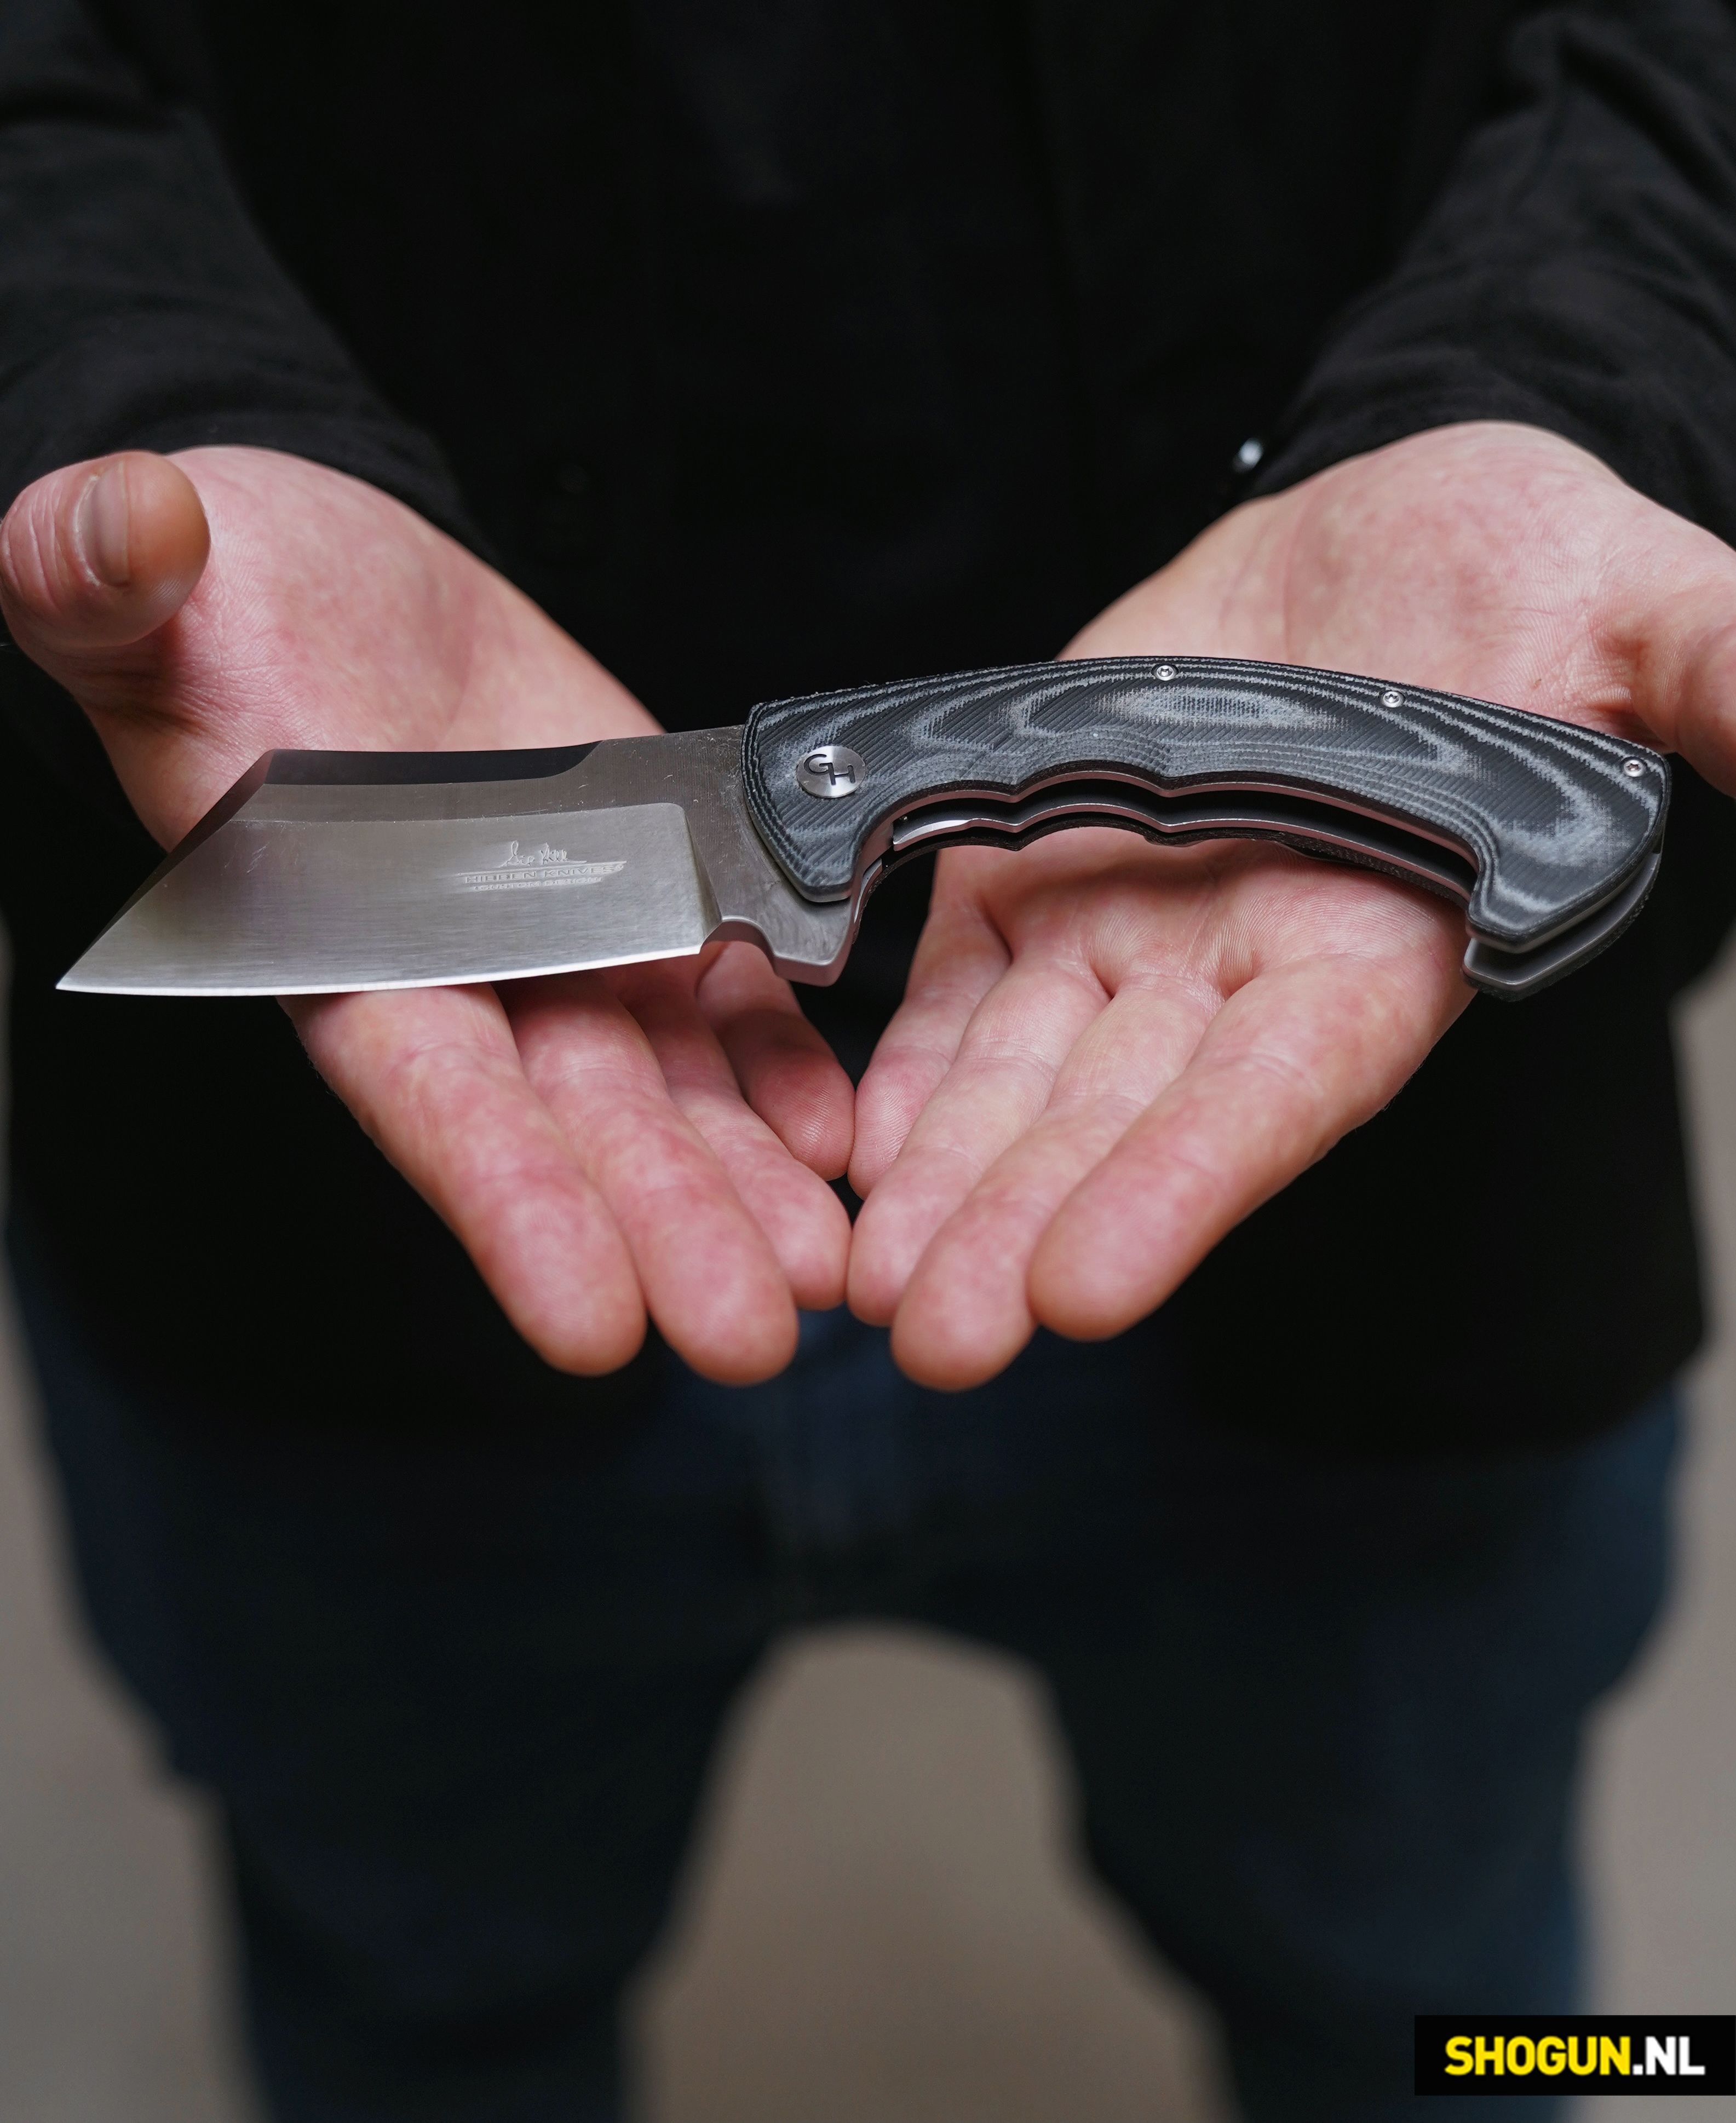knife: (55, 633, 1676, 1069)
